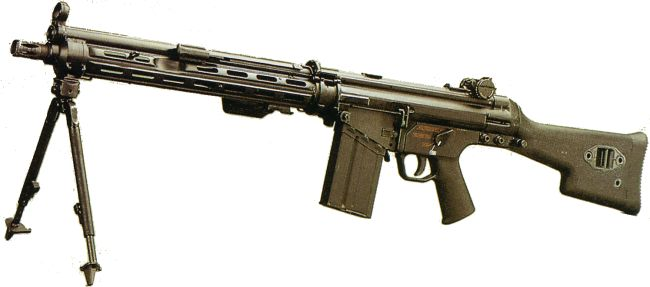rifle: (12, 7, 639, 273)
